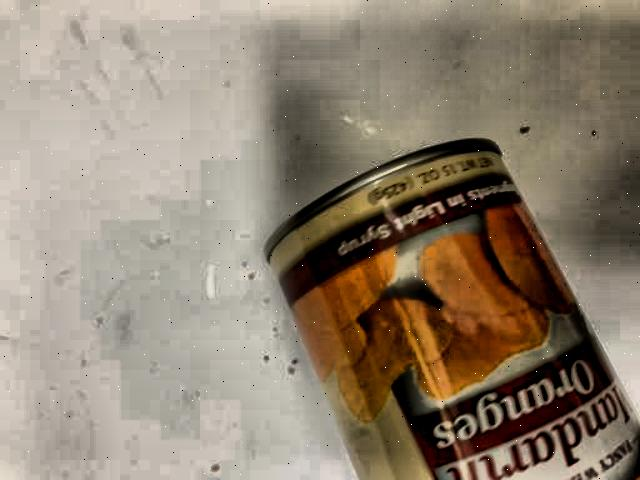Almennt: (276, 131, 640, 480)
